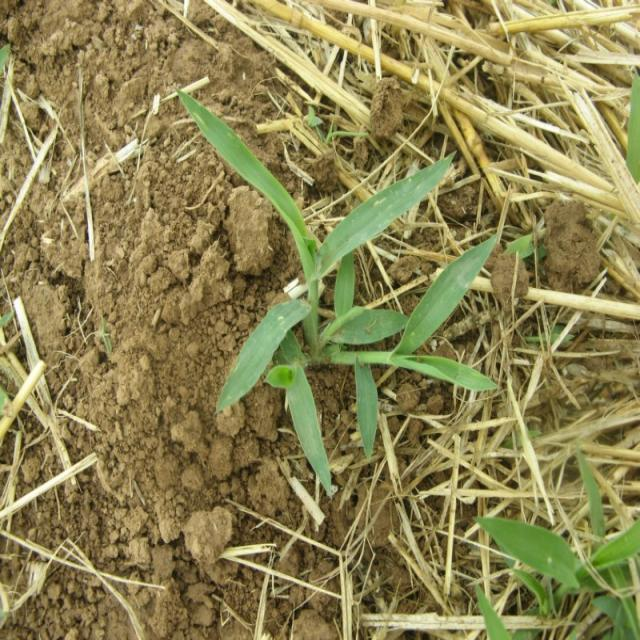bg: (172, 86, 499, 481)
